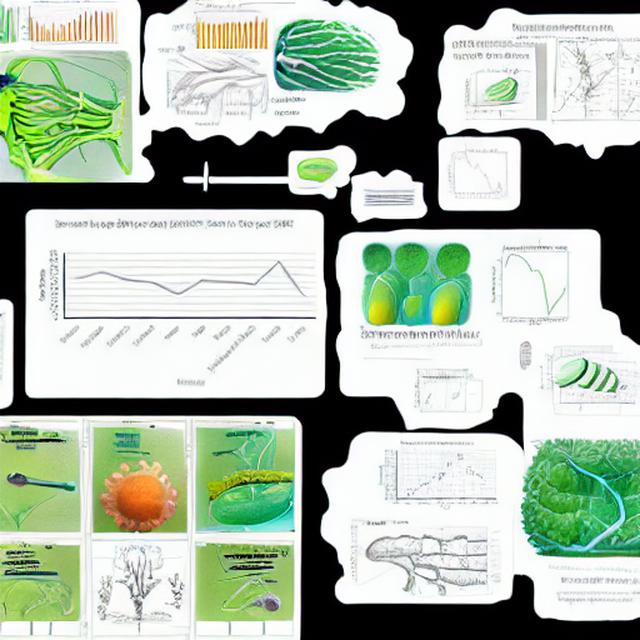Graph: (29, 216, 322, 389), (476, 241, 591, 327), (375, 438, 503, 514), (187, 7, 270, 56), (17, 0, 100, 48), (444, 146, 515, 199)
